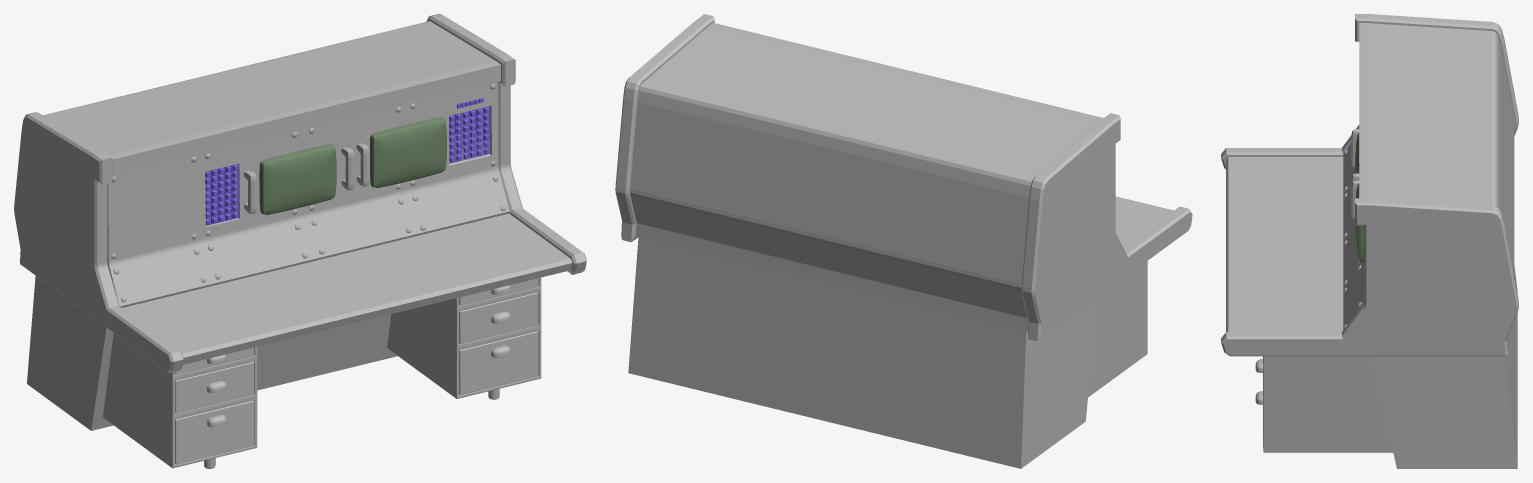
The model's file is SM_ComputerDeskBig_01.fbx.
3 renders of one model, left to right at view 1: azimuth 30°, elevation 25°; view 2: azimuth 150°, elevation 25°; view 3: azimuth 270°, elevation 25°, orthographic. The views are drawn at different scales.
Parts seen in each view (by area): view 1: ComputerDesk_2, polySurface58, pCylinder122, polySurface53, pPlane1, pPlane2, DrawerDownL_01, DrawerDownR_01, DrawerMiddleL_01, DrawerMiddleR_01, polySurface72, polySurface79 (+4 smaller); view 2: ComputerDesk_2, pCylinder122; view 3: ComputerDesk_2, polySurface53, polySurface58, pCube381, pPlane2.
Boxes of the visible parts, x1=… form: ComputerDesk_2: x1=14, y1=14, x2=586, y2=430; polySurface58: x1=107, y1=82, x2=509, y2=307; pCylinder122: x1=103, y1=333, x2=257, y2=468; polySurface53: x1=387, y1=277, x2=541, y2=399; pPlane1: x1=259, y1=144, x2=336, y2=214; pPlane2: x1=370, y1=117, x2=446, y2=187; DrawerDownL_01: x1=175, y1=400, x2=254, y2=464; DrawerDownR_01: x1=459, y1=331, x2=538, y2=395; DrawerMiddleL_01: x1=175, y1=361, x2=254, y2=413; DrawerMiddleR_01: x1=459, y1=292, x2=538, y2=344; polySurface72: x1=449, y1=106, x2=489, y2=163; polySurface79: x1=205, y1=163, x2=238, y2=225; ComputerDesk_2: x1=615, y1=14, x2=1192, y2=468; pCylinder122: x1=1088, y1=261, x2=1147, y2=397; ComputerDesk_2: x1=1221, y1=14, x2=1518, y2=468; polySurface53: x1=1263, y1=356, x2=1392, y2=452; polySurface58: x1=1343, y1=143, x2=1364, y2=329; pCube381: x1=1351, y1=129, x2=1359, y2=218; pPlane2: x1=1355, y1=183, x2=1364, y2=262.
Size of the model in its own units: 235 by 156 by 155.
